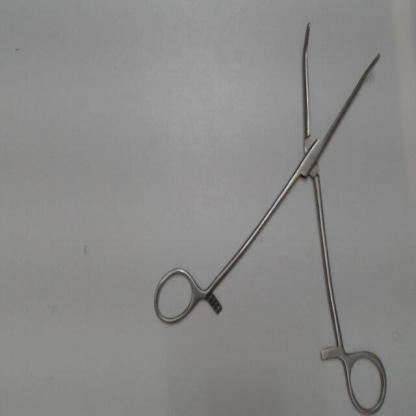Lahey Forceps: (148, 19, 392, 416)
